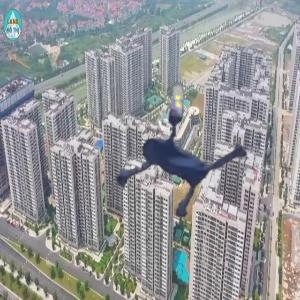drone: (91, 53, 277, 239)
